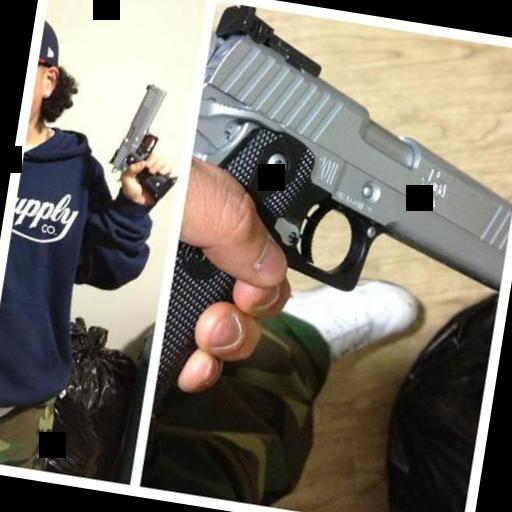Handgun: (152, 4, 512, 437), (98, 73, 188, 206)
